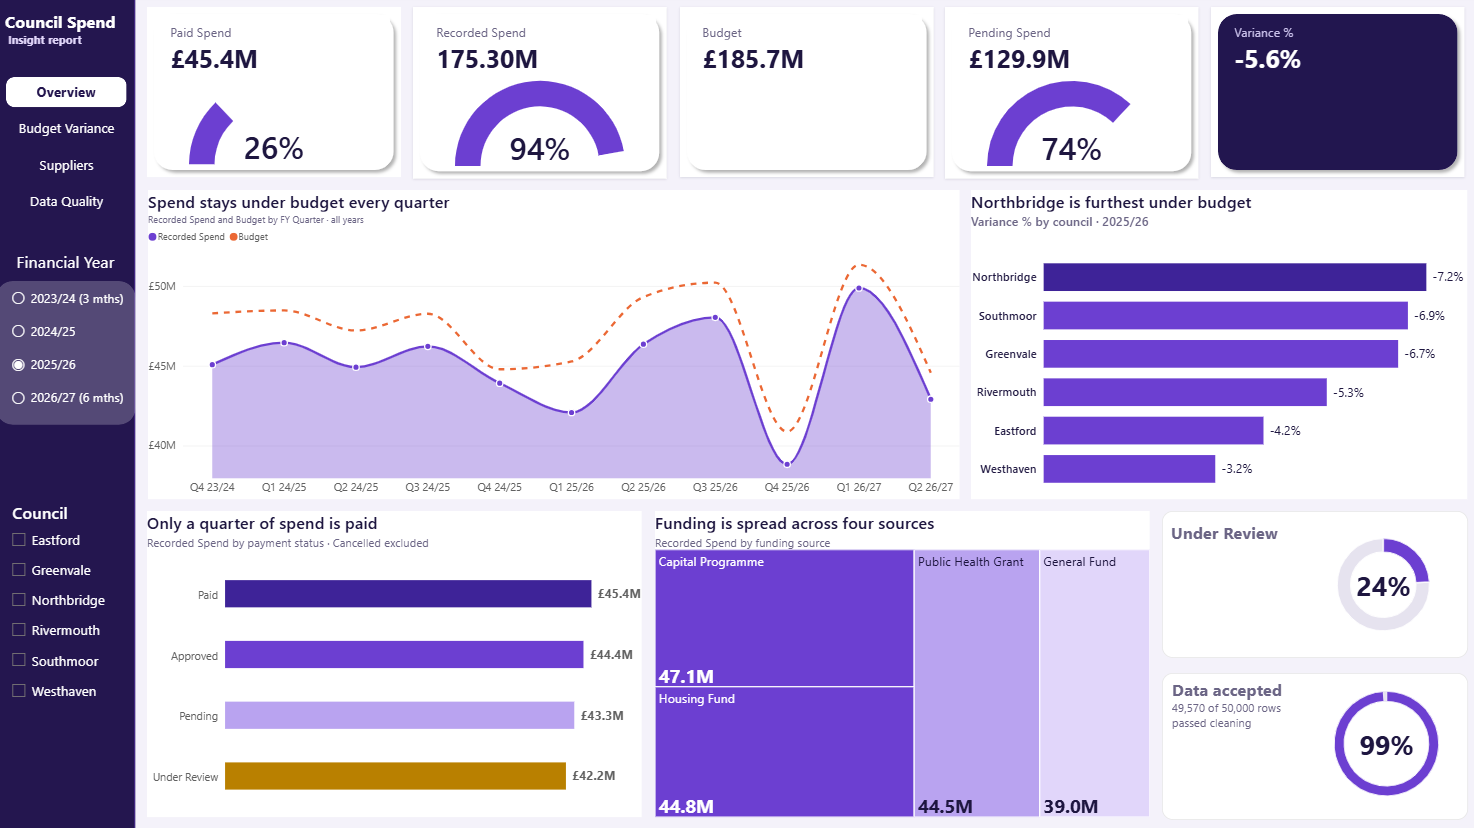

What the dashboard file says about the page in this screenshot:
{"tool":"powerbi","page":{"name":"Overview","canvas":[1920,1080],"ordinal":0},"visuals":[{"type":"shape","box":[0,0,180,1079.6],"z":0},{"type":"shape","box":[196,16,328,219.9],"z":0,"group":"g1"},{"type":"shape","box":[540,16,327.5,221.6],"z":0,"group":"g2"},{"type":"shape","box":[885,16,328,220],"z":0,"group":"g3"},{"type":"shape","box":[1228,16,327.5,221.6],"z":0,"group":"g4"},{"type":"shape","box":[1572,16,328,220],"z":0,"group":"g5"},{"type":"cardVisual","fields":{"Data":["Council_Spending_final.Paid Spend"]},"box":[210,26,300,90],"z":1000,"group":"g1"},{"type":"cardVisual","fields":{"Data":["Council_Spending_final.Recorded Spend"]},"box":[554,26,300,90],"z":1000,"group":"g2"},{"type":"cardVisual","fields":{"Data":["Council_Spending_final.Budget"]},"box":[898,26,300,90],"z":1000,"group":"g3"},{"type":"cardVisual","fields":{"Data":["Council_Spending_final.Pending Spend"]},"box":[1242,26,300,90],"z":1000,"group":"g4"},{"type":"cardVisual","fields":{"Data":["Council_Spending_final.Variance %"]},"box":[1586,26,300,90],"z":1000,"group":"g5"},{"type":"shape","box":[0,370.5,180.7,186.2],"z":1000},{"type":"gauge","fields":{"Y":["Council_Spending_final.Paid %"]},"box":[250,106,220,116],"z":2000,"group":"g1"},{"type":"gauge","fields":{"Y":["Council_Spending_final.Budget Used %"]},"box":[594,106,220,120],"z":2000,"group":"g2"},{"type":"gauge","fields":{"Y":["Council_Spending_final.Pending %"]},"box":[1282,106,220,120],"z":2000,"group":"g4"},{"type":"slicer","fields":{"Values":["Council_Spending_final.Financial Year"]},"box":[12.8,370.5,180.7,186.2],"z":2000},{"type":"textbox","box":[0,330.1,179.7,39.7],"z":3000},{"type":"group","id":"g1","title":"Tile Paid","box":[196,16,328,219.9],"z":4000},{"type":"group","id":"g2","title":"Tile Recorded","box":[540,16,327.5,221.6],"z":5000},{"type":"group","id":"g3","title":"Tile Budget","box":[885,16,328,220],"z":6000},{"type":"group","id":"g4","title":"Tile Pending","box":[1228,16,327.5,221.6],"z":7000},{"type":"group","id":"g5","title":"Tile Variance","box":[1572,16,328,220],"z":8000},{"type":"areaChart","title":"Spend stays under budget every quarter","fields":{"Category":["Council_Spending_final.FY Quarter"],"Y":["Council_Spending_final.Recorded Spend","Council_Spending_final.Budget"]},"box":[196.7,252,1050,400],"z":9000},{"type":"clusteredBarChart","fields":{"Category":["Council_Spending_final.Council Short"],"Y":["Council_Spending_final.Under Budget Bar"]},"box":[1262,252,642,400],"z":10000},{"type":"clusteredBarChart","title":"Only a quarter of spend is paid","fields":{"Category":["Council_Spending_final.payment_status"],"Y":["Council_Spending_final.Spend Amount"]},"box":[196,668,640,396],"z":11000},{"type":"treemap","title":"Funding is spread across four sources","fields":{"Group":["Council_Spending_final.funding_source"],"Values":["Council_Spending_final.Recorded Spend"]},"box":[852,668,640,396],"z":12000},{"type":"shape","box":[1508,668,396,190],"z":13000},{"type":"donutChart","title":"Under Review","fields":{"Y":["Council_Spending_final.Under Review %","Council_Spending_final.Not Under Review %"]},"box":[1704,678,190,170],"z":14000},{"type":"textbox","box":[1520,680,180,70],"z":15000},{"type":"shape","box":[1508.4,877.5,396,190],"z":16000},{"type":"textbox","box":[1521,883.7,163,71],"z":17000},{"type":"donutChart","fields":{"Y":["Council_Spending_final.Data Accepted %","Council_Spending_final.Not Accepted %"]},"box":[1704,884,190,170],"z":18000},{"type":"slicer","fields":{"Values":["Council_Spending_final.Council Short"]},"box":[12.8,655.2,155.1,277.4],"z":19000},{"type":"pageNavigator","box":[12.8,105.9,156,180],"z":20000},{"type":"textbox","box":[12,20,156,60],"z":21000}]}

Visuals, with their boxes on the page's 1920x1080 design canvas (x1, y1, x2, y2). These are canvas units, not pixel positions in the 1474x828 screenshot, which may show the page scaled, cropped or inside an application window:
shape: <region>0, 0, 180, 1080</region>
shape: <region>196, 16, 524, 236</region>
shape: <region>540, 16, 868, 238</region>
shape: <region>885, 16, 1213, 236</region>
shape: <region>1228, 16, 1556, 238</region>
shape: <region>1572, 16, 1900, 236</region>
cardVisual - Council_Spending_final.Paid Spend: <region>210, 26, 510, 116</region>
cardVisual - Council_Spending_final.Recorded Spend: <region>554, 26, 854, 116</region>
cardVisual - Council_Spending_final.Budget: <region>898, 26, 1198, 116</region>
cardVisual - Council_Spending_final.Pending Spend: <region>1242, 26, 1542, 116</region>
cardVisual - Council_Spending_final.Variance %: <region>1586, 26, 1886, 116</region>
shape: <region>0, 370, 181, 557</region>
gauge - Council_Spending_final.Paid %: <region>250, 106, 470, 222</region>
gauge - Council_Spending_final.Budget Used %: <region>594, 106, 814, 226</region>
gauge - Council_Spending_final.Pending %: <region>1282, 106, 1502, 226</region>
slicer - Council_Spending_final.Financial Year: <region>13, 370, 194, 557</region>
textbox: <region>0, 330, 180, 370</region>
"Tile Paid" group: <region>196, 16, 524, 236</region>
"Tile Recorded" group: <region>540, 16, 868, 238</region>
"Tile Budget" group: <region>885, 16, 1213, 236</region>
"Tile Pending" group: <region>1228, 16, 1556, 238</region>
"Tile Variance" group: <region>1572, 16, 1900, 236</region>
"Spend stays under budget every quarter" areaChart: <region>197, 252, 1247, 652</region>
clusteredBarChart - Council_Spending_final.Council Short x Council_Spending_final.Under Budget Bar: <region>1262, 252, 1904, 652</region>
"Only a quarter of spend is paid" clusteredBarChart: <region>196, 668, 836, 1064</region>
"Funding is spread across four sources" treemap: <region>852, 668, 1492, 1064</region>
shape: <region>1508, 668, 1904, 858</region>
"Under Review" donutChart: <region>1704, 678, 1894, 848</region>
textbox: <region>1520, 680, 1700, 750</region>
shape: <region>1508, 878, 1904, 1068</region>
textbox: <region>1521, 884, 1684, 955</region>
donutChart - Council_Spending_final.Data Accepted % x Council_Spending_final.Not Accepted %: <region>1704, 884, 1894, 1054</region>
slicer - Council_Spending_final.Council Short: <region>13, 655, 168, 933</region>
pageNavigator: <region>13, 106, 169, 286</region>
textbox: <region>12, 20, 168, 80</region>
